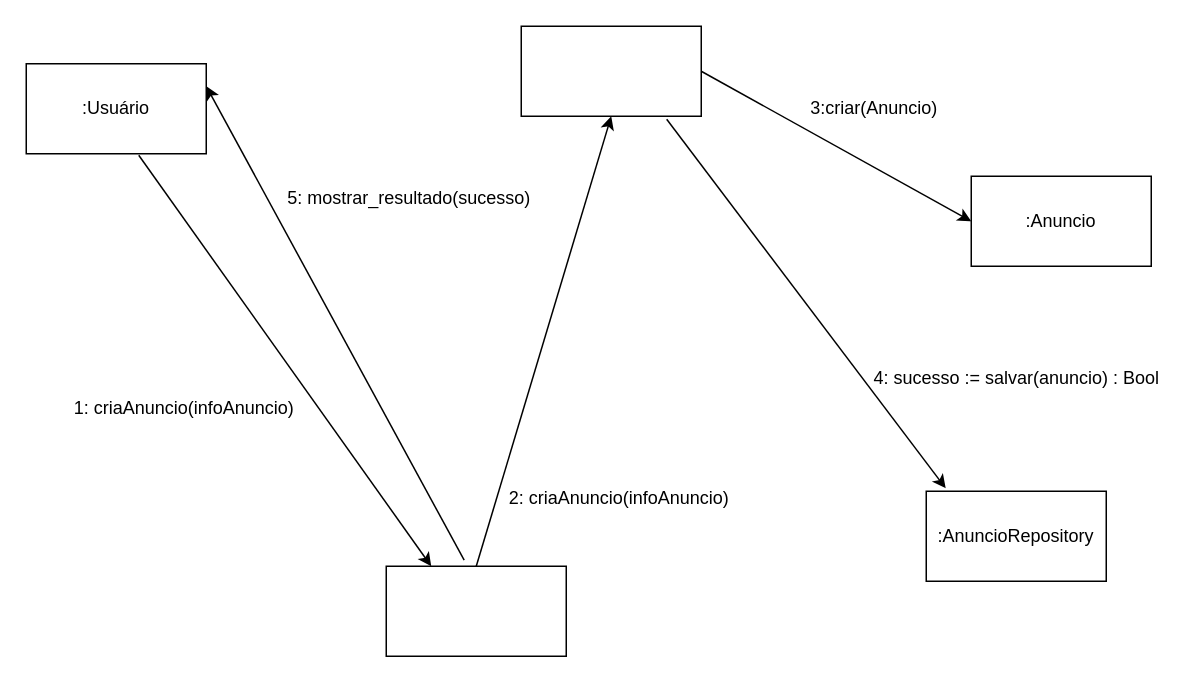
Image size: 1200x683. Some labels were removed from this diagram. The shapes that lost their labels are listed below. From the top down, each one's centre as x and y in pixels, then its label:
At (x=610, y=70): ":AnuncioService".
At (x=475, y=610): ":AnúncioController".
